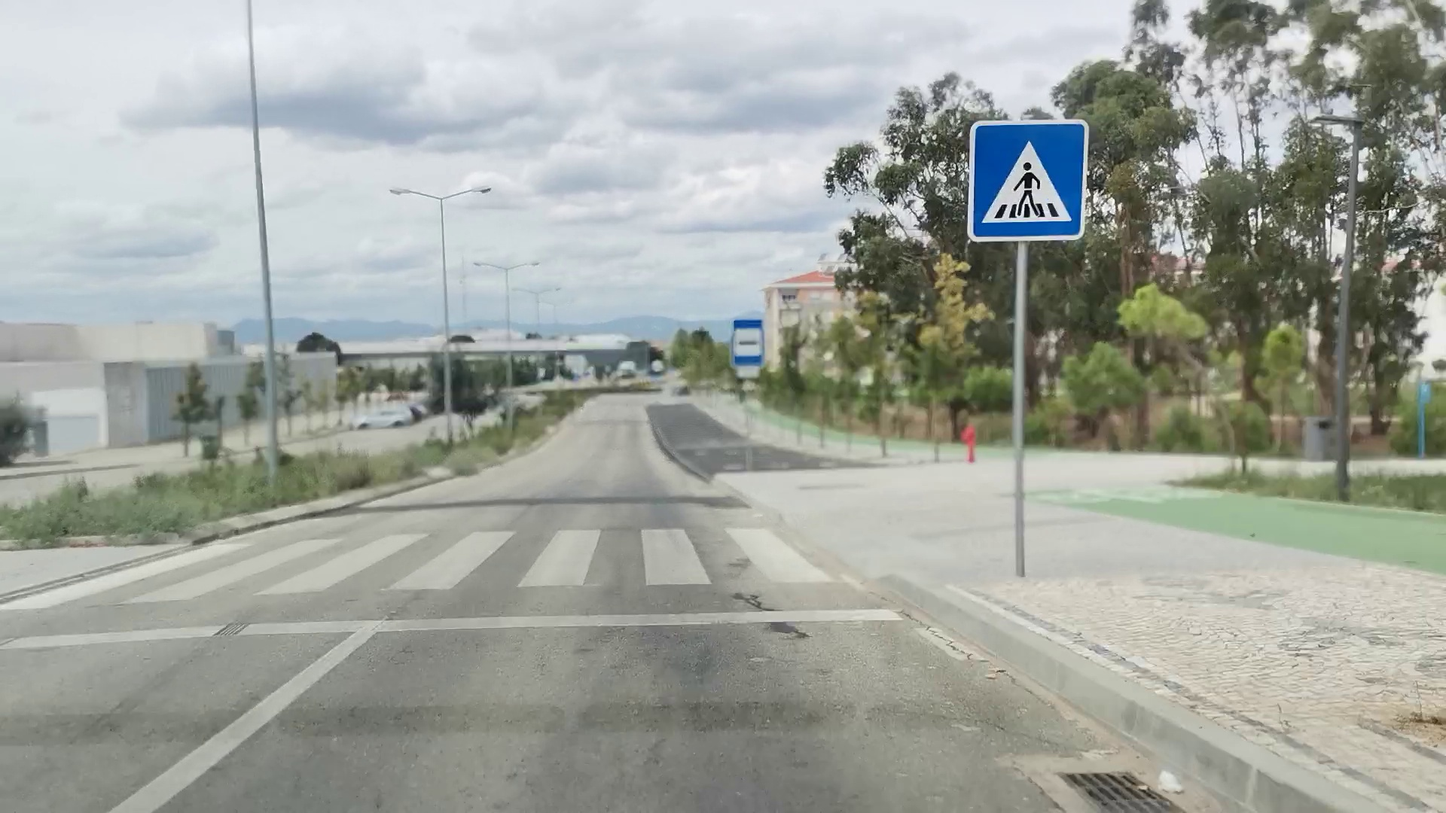Stairs: (0, 529, 846, 611)
